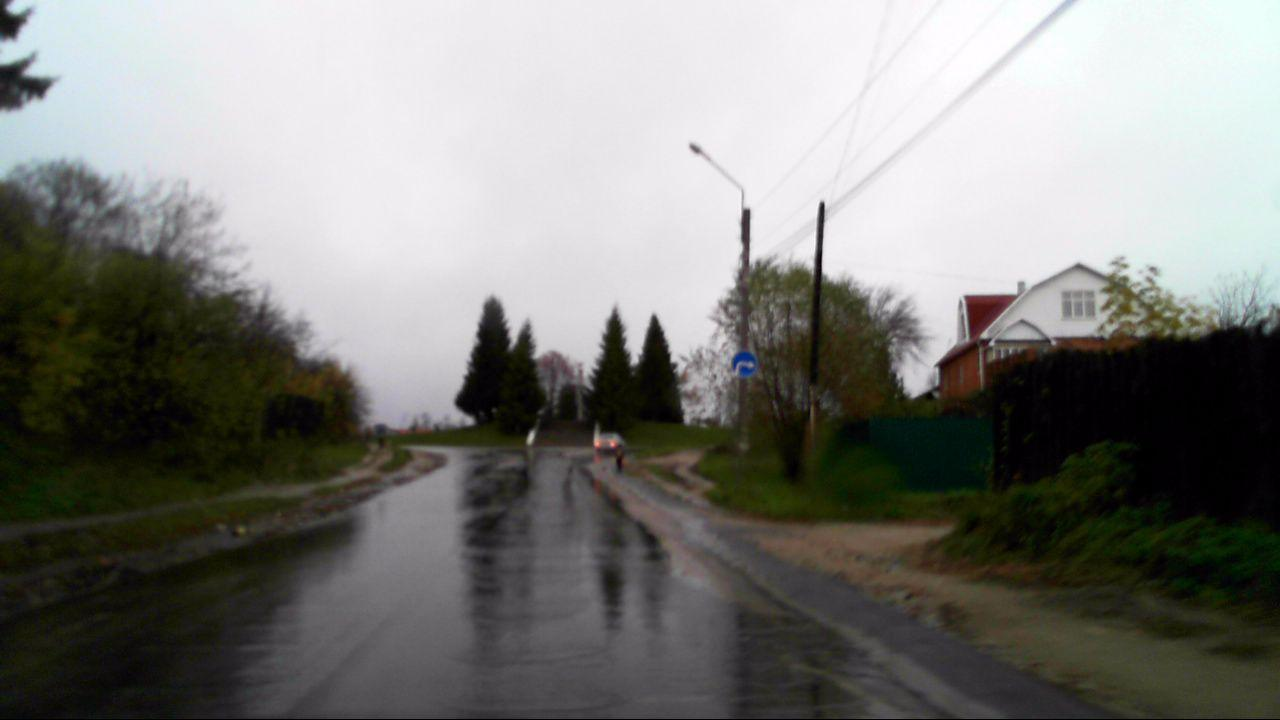road_sign: (730, 351, 757, 378)
